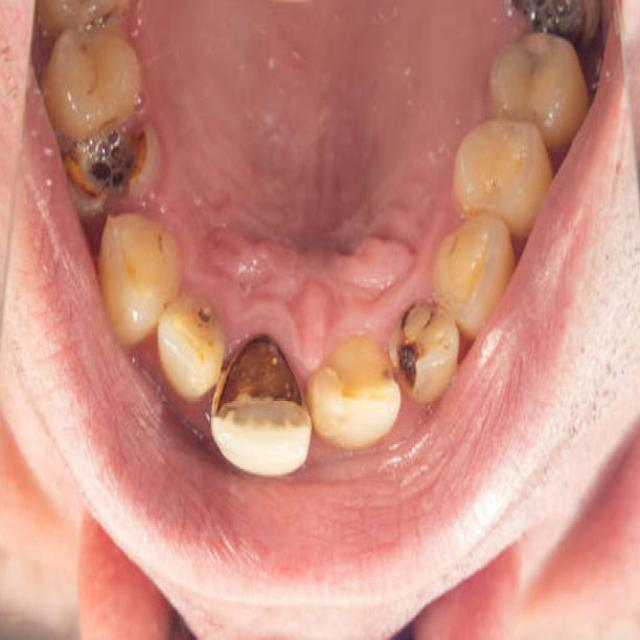caries: (61, 98, 166, 212), (213, 330, 310, 445), (392, 302, 456, 402), (191, 290, 222, 342)
